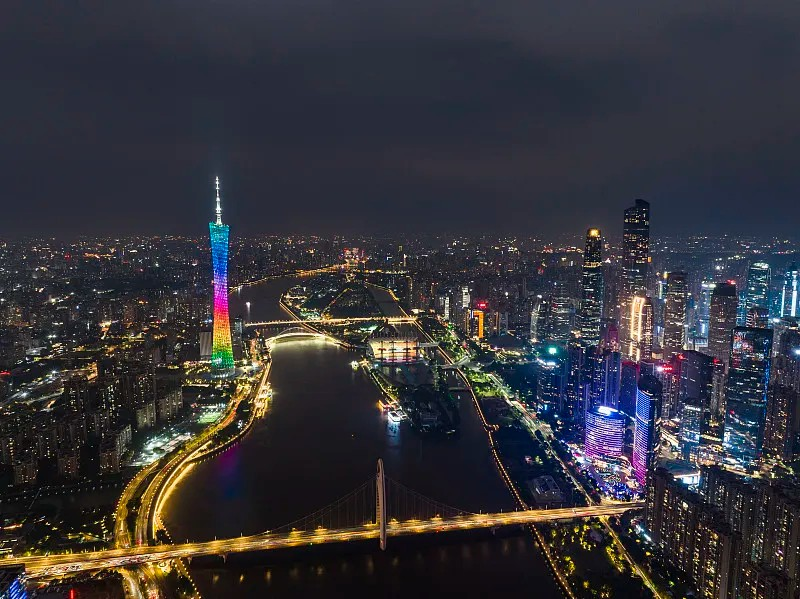Canton: (207, 172, 237, 380)
